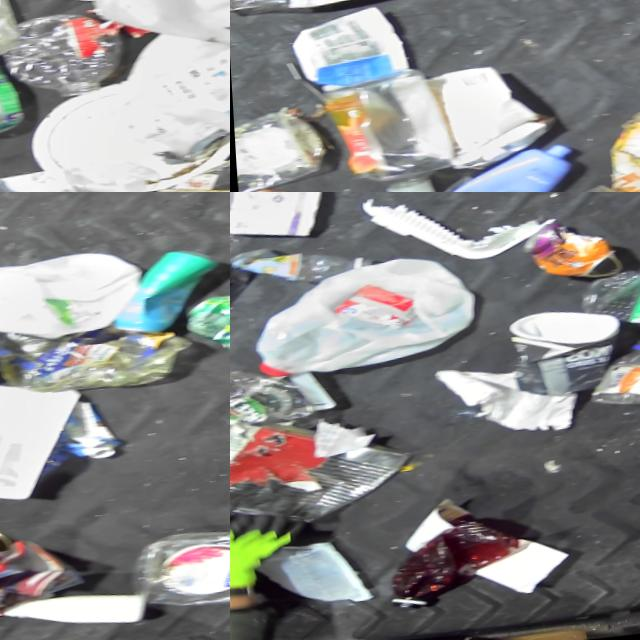can: (107, 250, 212, 346), (172, 294, 230, 360)
milk_jug: (240, 259, 459, 387), (0, 250, 133, 348), (126, 47, 230, 168), (76, 0, 230, 69)
non_white_jug: (412, 145, 564, 192)
plastic_bottle: (119, 525, 230, 617), (569, 268, 640, 345)
